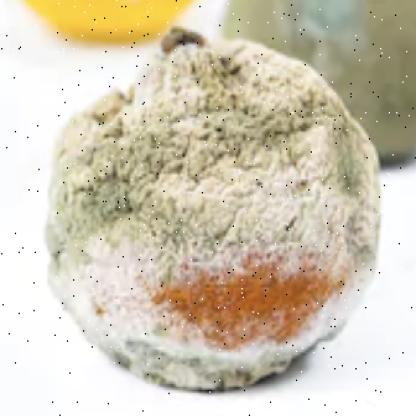rotten: (44, 35, 385, 400)
